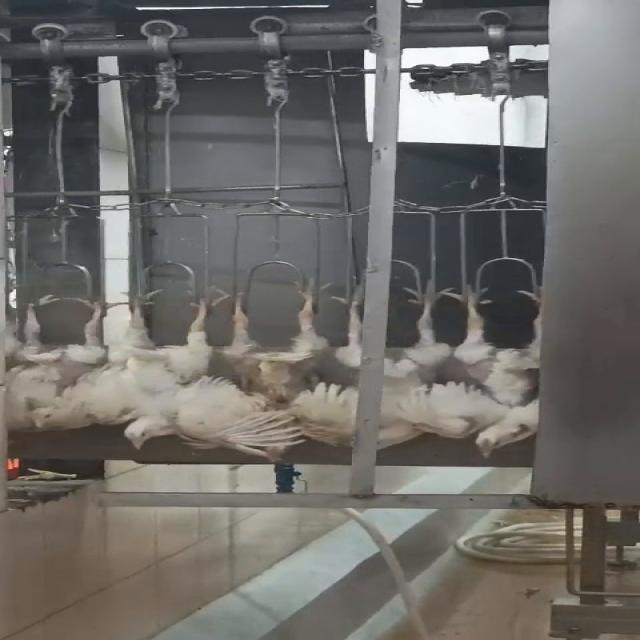chicken: (119, 279, 309, 465), (204, 281, 352, 417), (0, 285, 128, 438), (377, 279, 480, 451), (458, 273, 546, 456)
